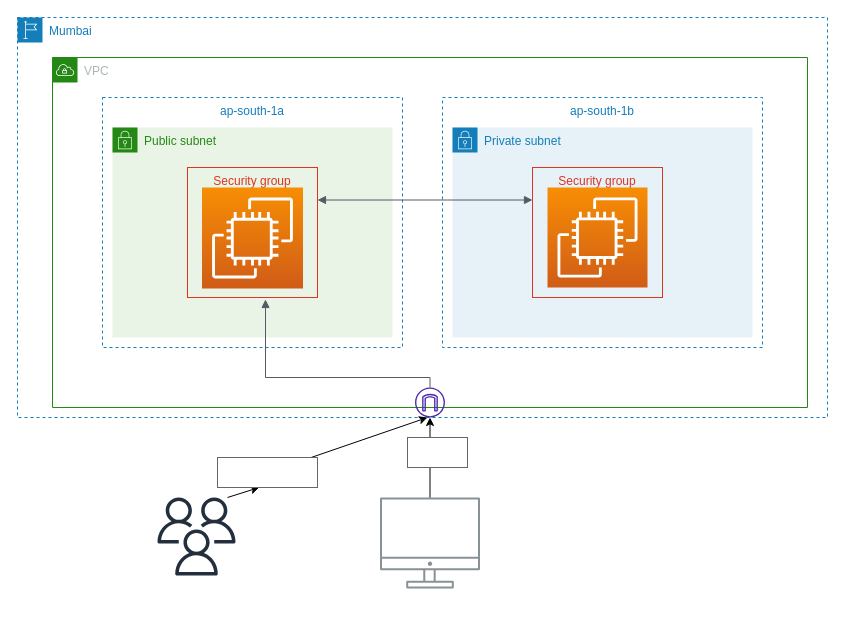
Image size: 845x627. Some labels were removed from this diagram. The shapes that lost their labels are listed below. From the top down, each one's centre as x and y in pixels, then its label:
the point at 267,472: port 80/443
the point at 437,452: port 22
the point at 430,542: desktop
